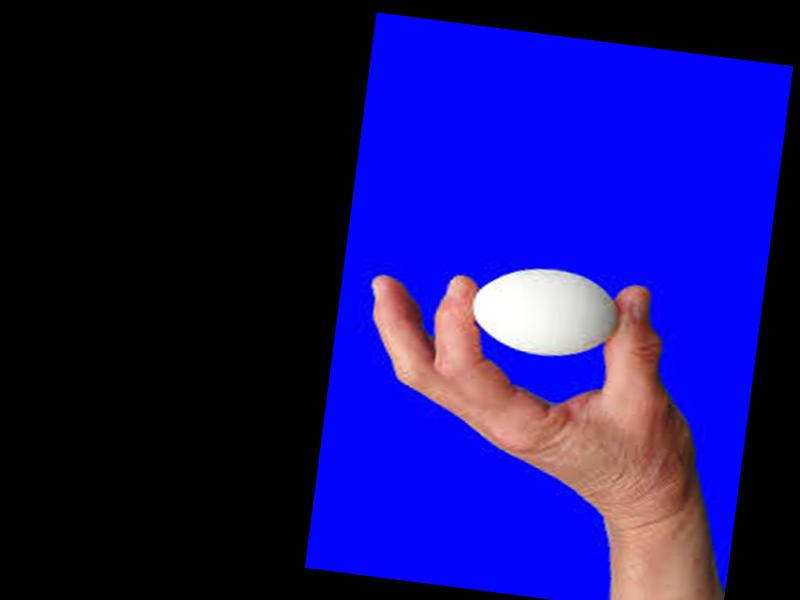Eggs: (465, 260, 622, 364)
